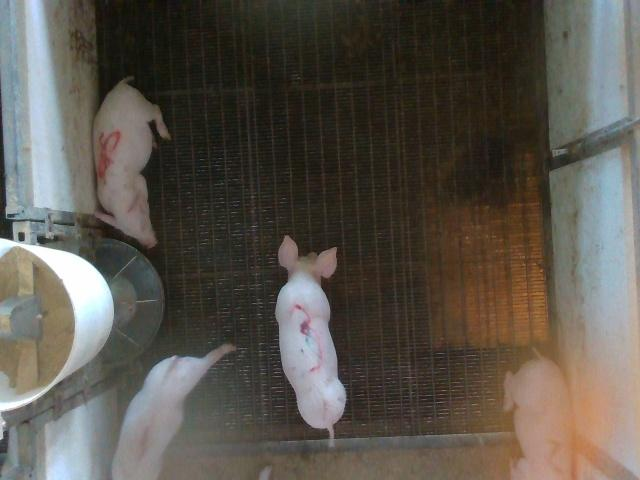pig-1: (112, 344, 235, 478)
pig-2: (504, 355, 571, 478)
pig-3: (275, 235, 346, 441)
pig-5: (94, 76, 170, 248)
